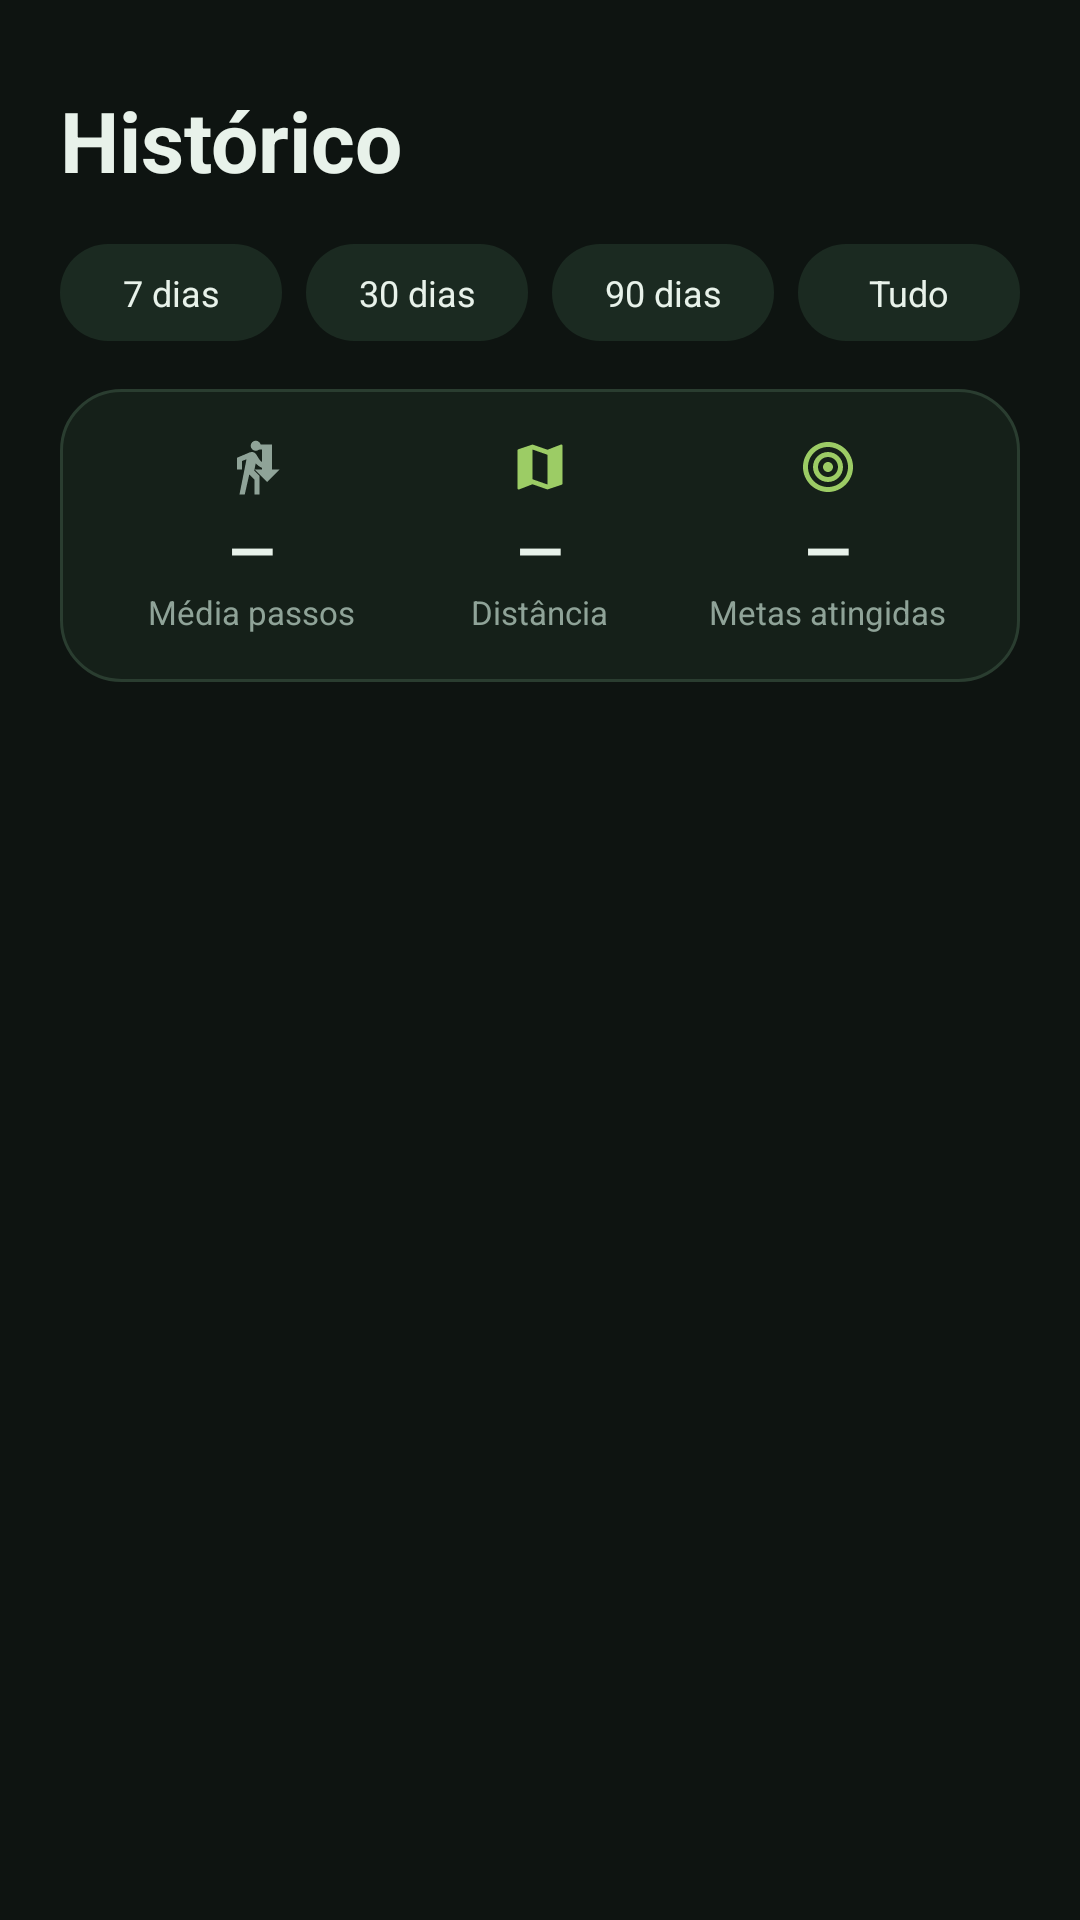

Icon click points for this 1080px x 1920px phone screenshot, format [x,y]:
map: [540,467]
steps: [258,467]
target: [828,467]
